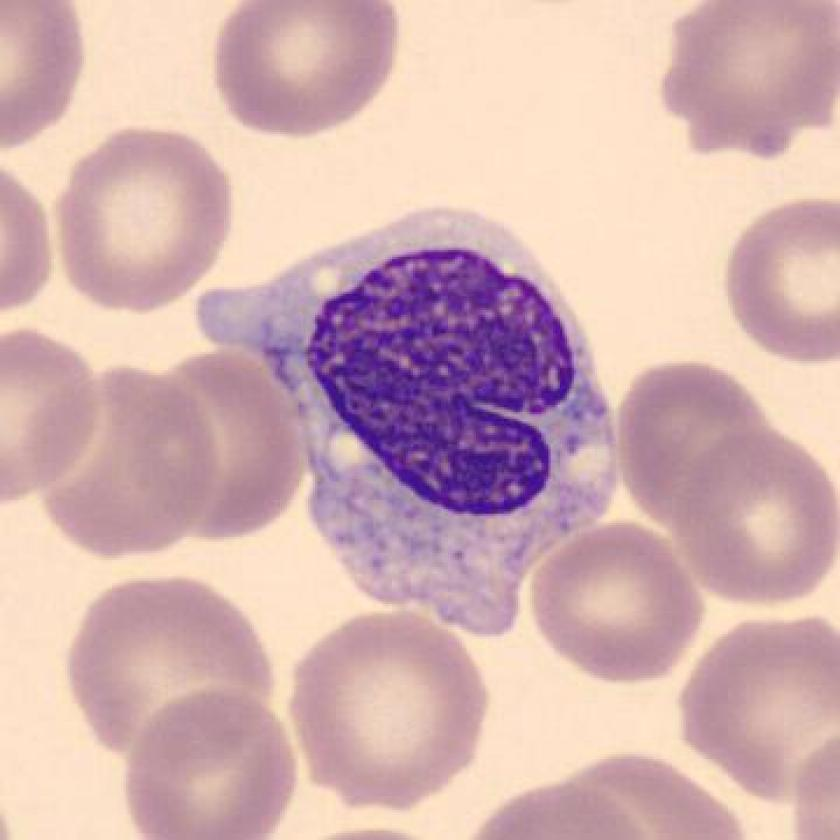monocyte: (183, 181, 633, 649)
